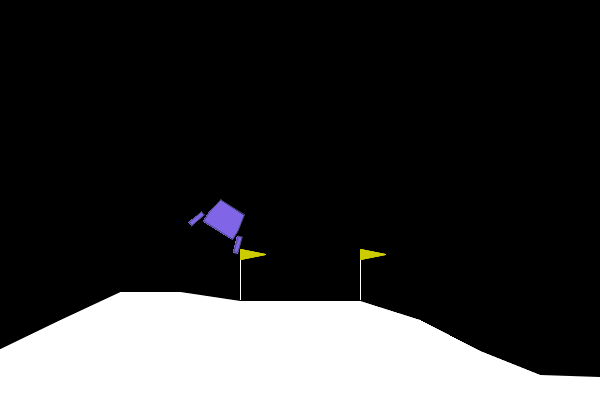lander: (187, 190, 259, 256)
